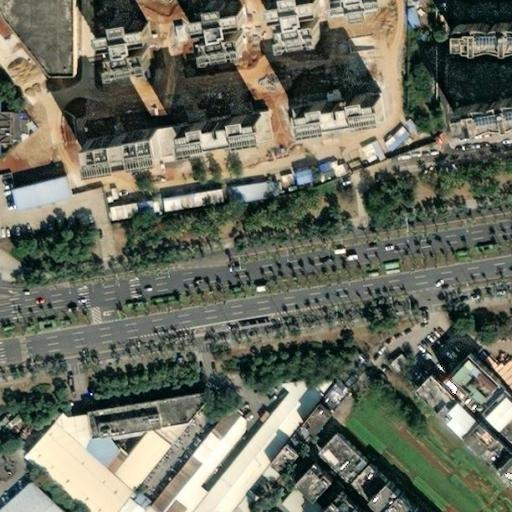building: (185, 378, 323, 512), (141, 406, 248, 512), (19, 426, 127, 512), (0, 0, 74, 76), (82, 397, 198, 440), (110, 3, 171, 67), (105, 434, 164, 493), (307, 95, 396, 134), (177, 117, 264, 156), (450, 362, 509, 419), (85, 134, 159, 171), (6, 169, 72, 209), (319, 437, 368, 485), (284, 0, 343, 36), (470, 429, 512, 478), (416, 379, 461, 423), (461, 96, 512, 134), (158, 183, 226, 211), (445, 405, 486, 446), (76, 439, 122, 475), (259, 111, 303, 147), (225, 175, 280, 203), (47, 414, 85, 451), (350, 467, 386, 503), (303, 472, 339, 508), (107, 193, 156, 219), (379, 118, 415, 151), (275, 486, 319, 512), (295, 402, 328, 436), (351, 0, 404, 20), (476, 15, 512, 44), (242, 467, 272, 501), (355, 133, 387, 164), (263, 444, 293, 475), (487, 398, 512, 435), (314, 380, 342, 410), (111, 490, 145, 512), (288, 161, 315, 187), (156, 131, 181, 159), (377, 492, 407, 512), (342, 499, 367, 512), (503, 425, 512, 443), (399, 504, 415, 512)
